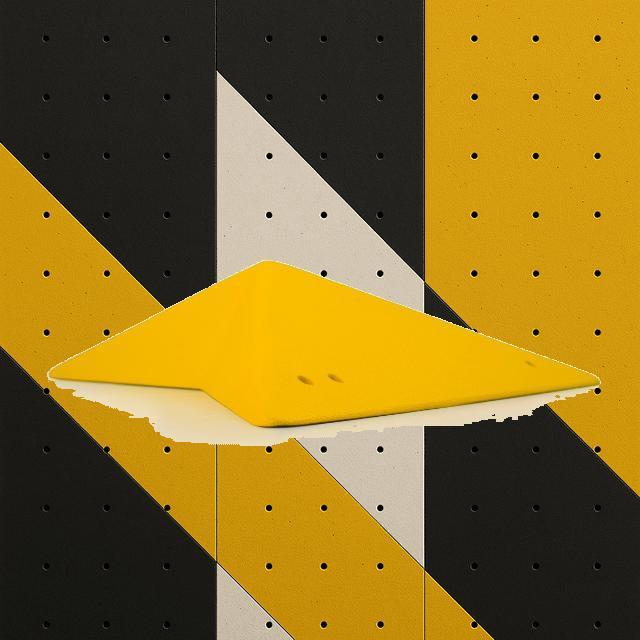Volume: (49, 258, 604, 428)
